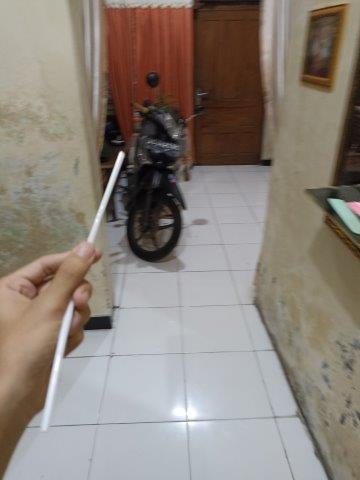sedotan: (42, 154, 124, 429)
